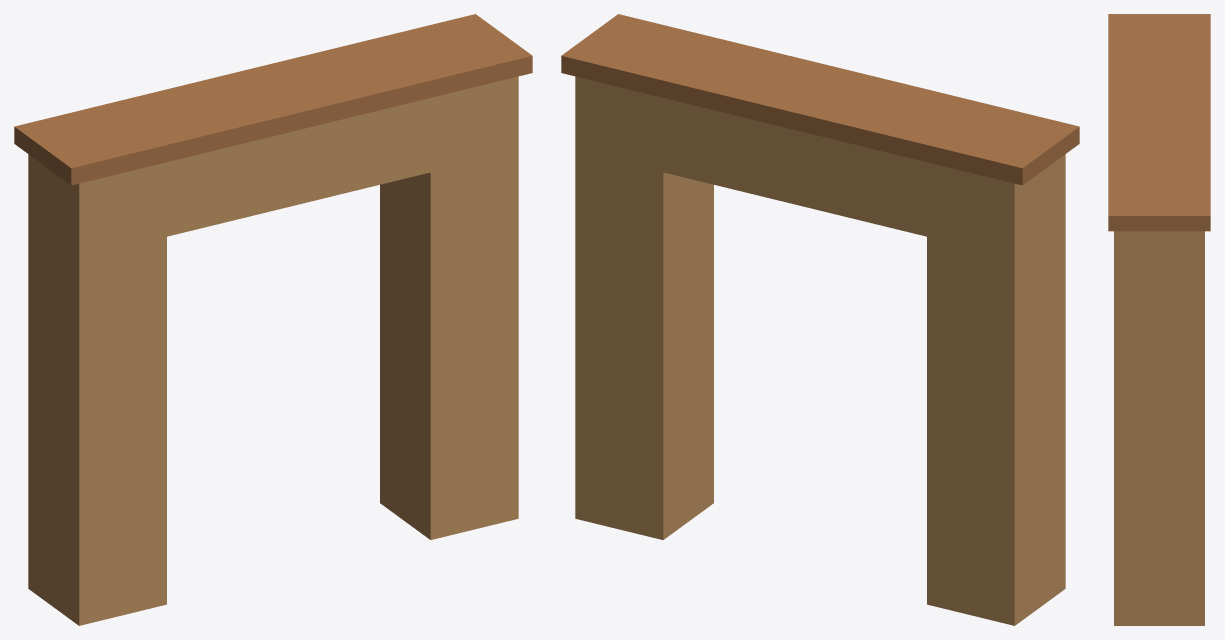
Rendered from stone_gate.fbx.
3 views of the same model, side by side, from view 1: azimuth 30°, elevation 25°; view 2: azimuth 150°, elevation 25°; view 3: azimuth 270°, elevation 25° (orthographic). The views are drawn at different scales.
Parts seen in each view (by area): view 1: stone_gate; view 2: stone_gate; view 3: stone_gate.
Boxes of the visible parts, x1,y1,x2,y2 form: stone_gate: [14, 14, 532, 625]; stone_gate: [561, 14, 1079, 625]; stone_gate: [1108, 14, 1210, 625].
Bounding box in the file's own units: 4.2 × 4.03 × 0.9.
